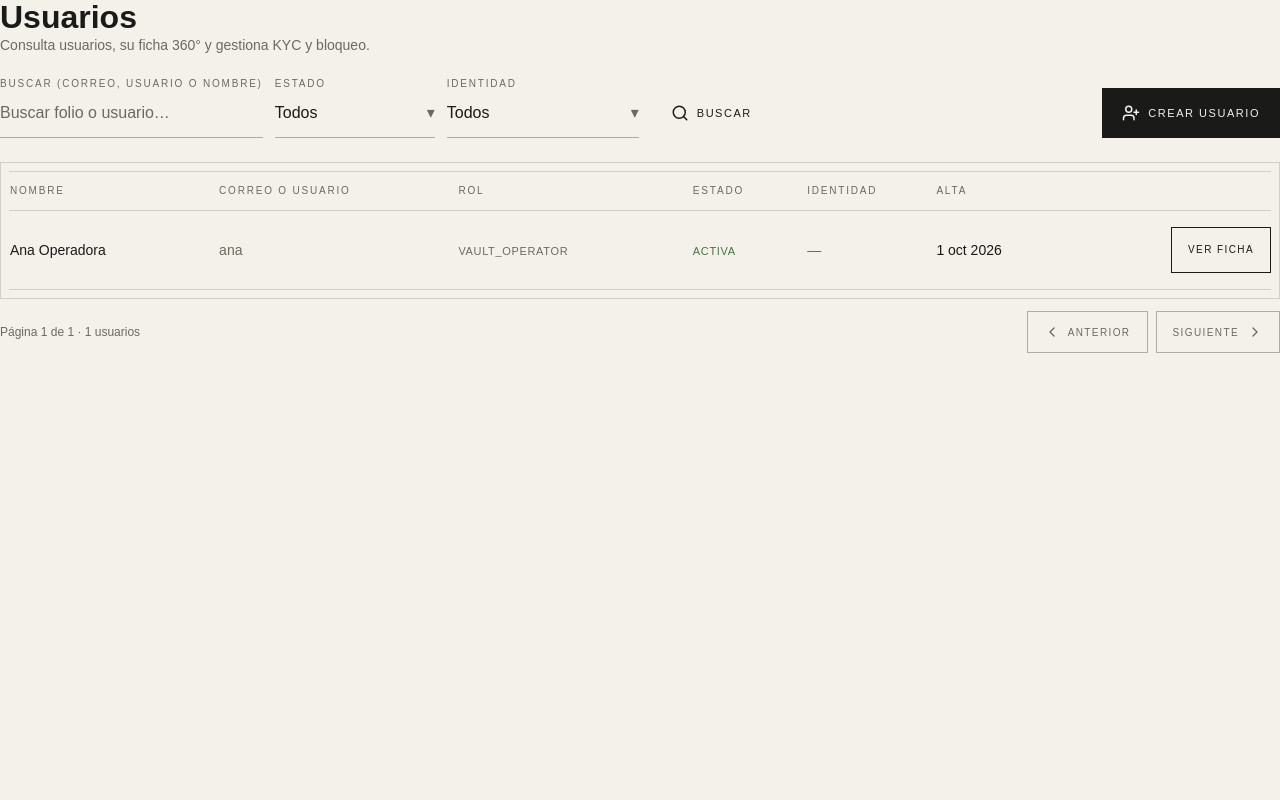
Test: UX-8 = STF-27 (front) · el identificador es `email ?? username` › la ficha de una cuenta sin correo dice «Usuario: ana»
Click the button "Ver ficha". click: click(1221, 250)
box: [1171,227,1271,273]
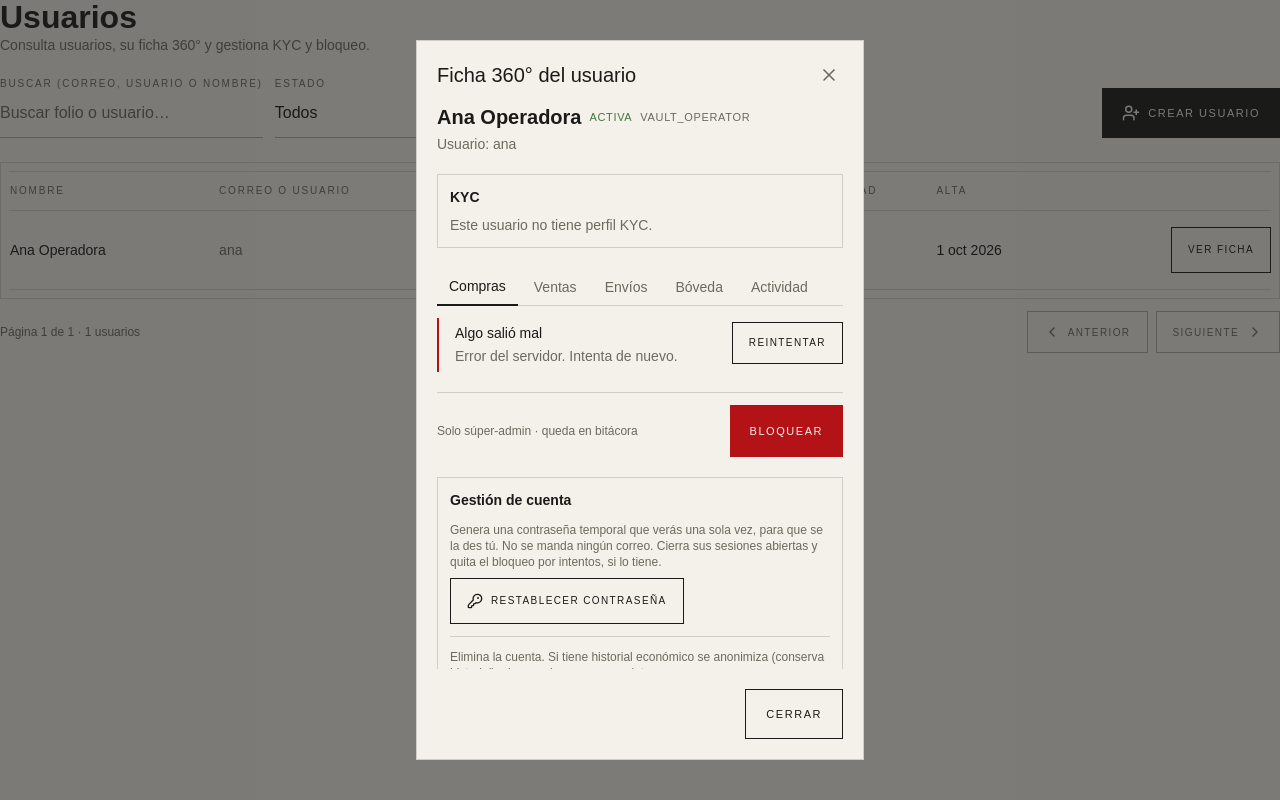
Expected: the text "Usuario: ana" is shown, [437,136,516,152]
